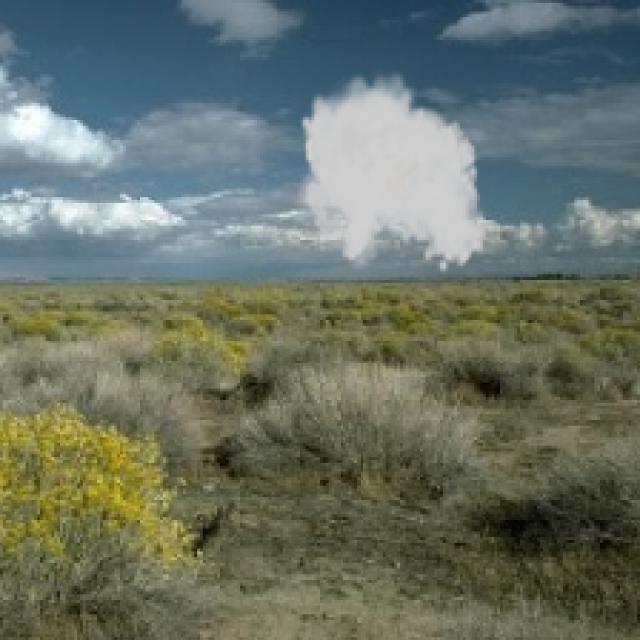smoke: (288, 66, 488, 274)
